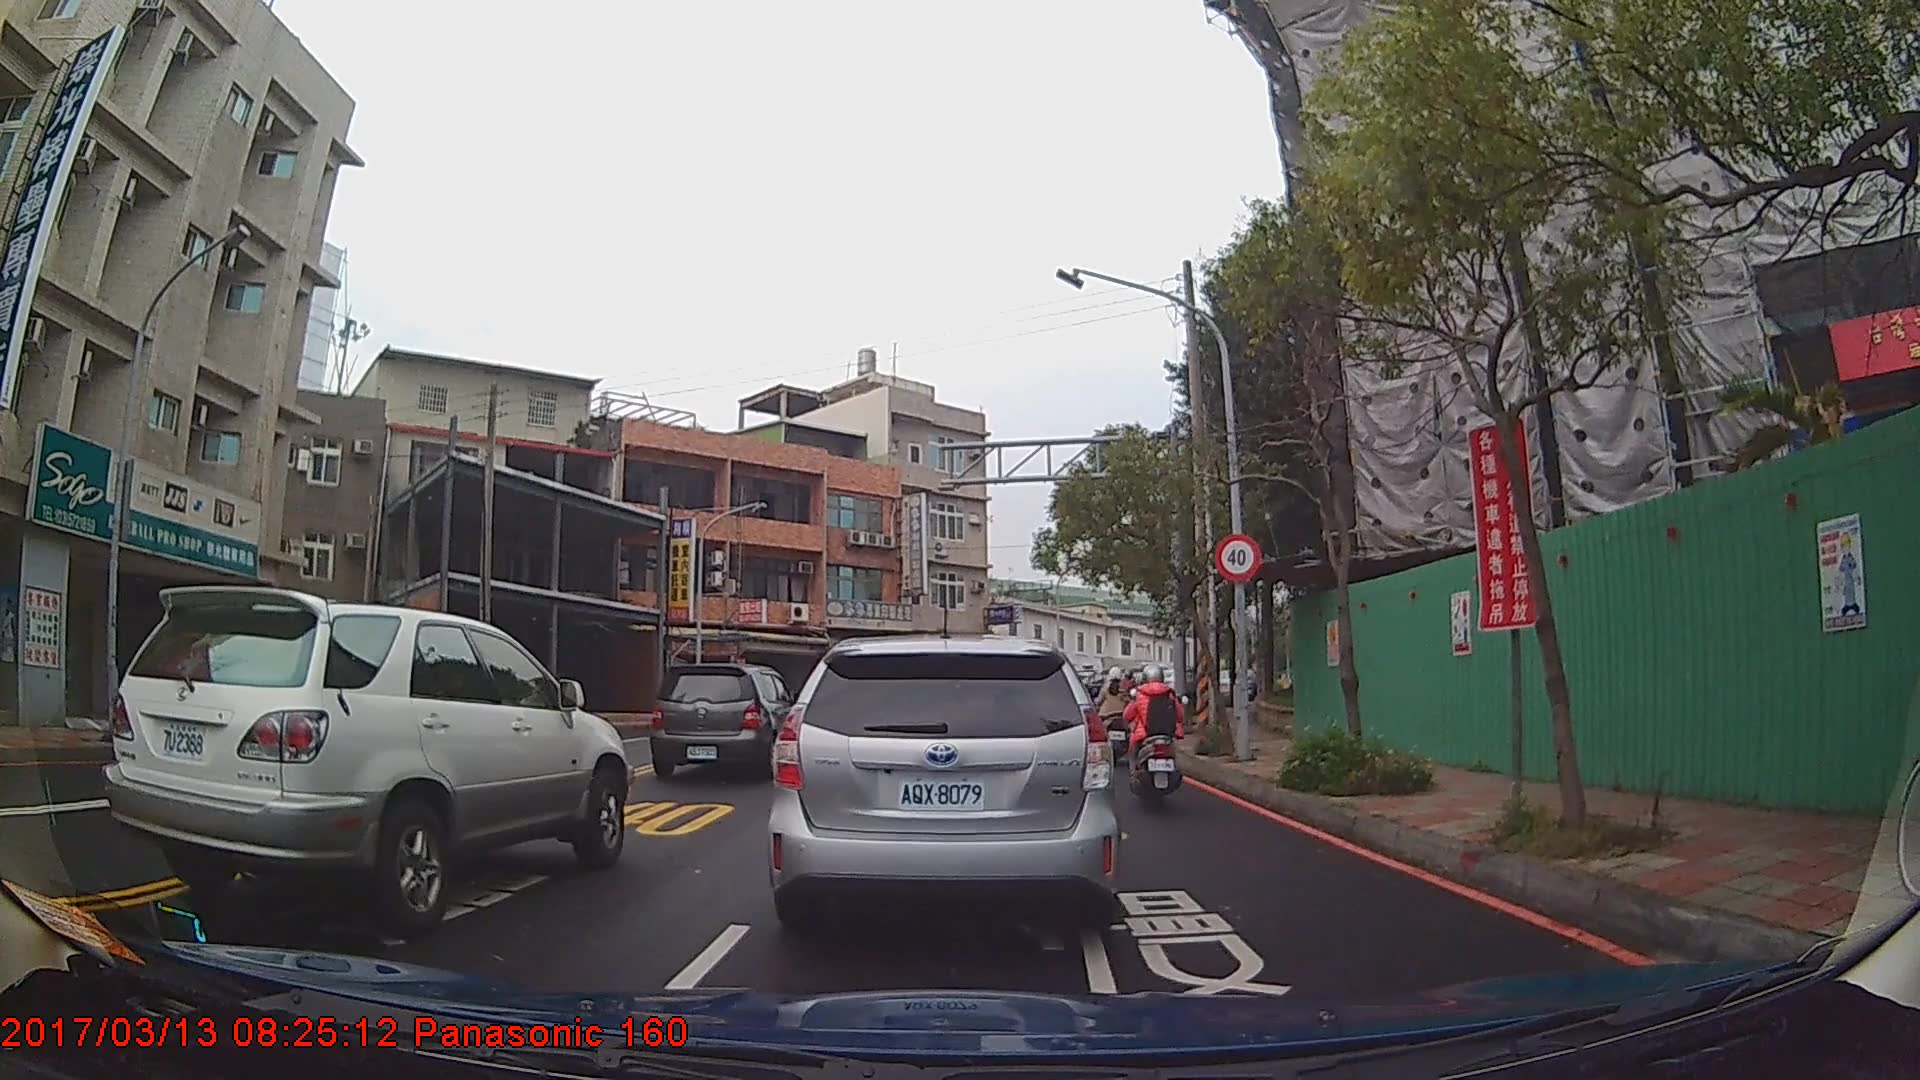rider: (1122, 669, 1189, 811), (1098, 671, 1133, 768), (1118, 671, 1138, 716)
vehicle: (102, 583, 628, 929), (765, 637, 1120, 944), (647, 664, 798, 779)
